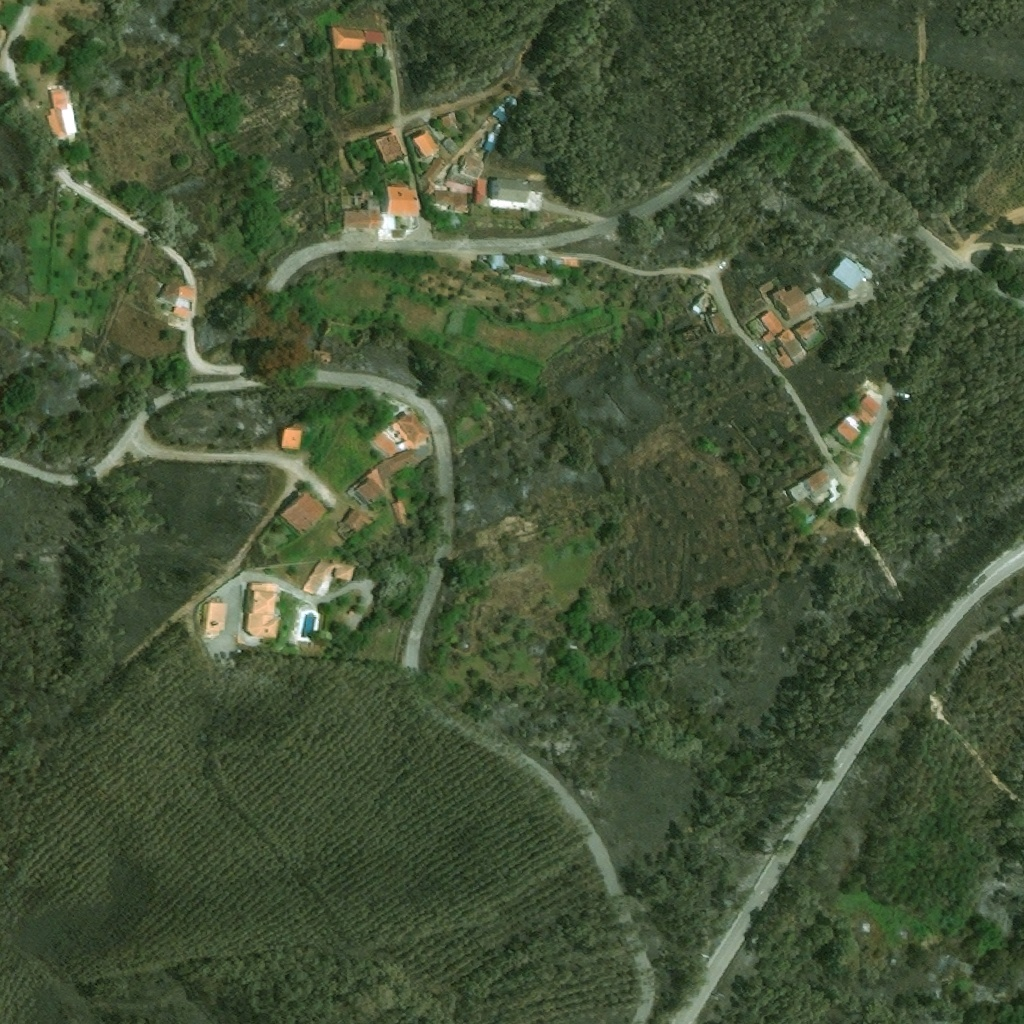0 no-damage: (367, 448, 420, 491), (771, 284, 827, 321), (279, 491, 328, 533), (299, 559, 355, 595), (245, 583, 279, 639), (46, 84, 77, 137), (829, 257, 870, 291), (391, 411, 428, 448), (376, 127, 409, 166), (776, 328, 804, 369), (848, 394, 882, 424), (343, 210, 390, 230), (162, 281, 196, 308), (388, 184, 418, 214), (489, 178, 528, 201), (759, 310, 785, 343), (354, 478, 384, 506), (513, 264, 555, 284), (346, 507, 375, 535), (413, 128, 441, 157), (834, 415, 863, 443), (369, 432, 399, 458), (202, 603, 226, 634), (334, 27, 365, 51), (691, 292, 716, 317), (494, 97, 520, 121), (804, 469, 831, 492), (441, 111, 466, 133), (461, 156, 486, 177), (424, 158, 446, 181), (437, 191, 468, 207), (707, 312, 728, 334), (281, 427, 302, 448), (788, 482, 810, 502), (390, 501, 407, 525), (488, 253, 513, 269), (829, 477, 844, 503), (483, 130, 500, 151), (443, 136, 462, 154), (814, 482, 834, 497), (172, 306, 189, 320), (424, 183, 438, 198), (530, 181, 549, 192), (806, 512, 818, 525), (528, 87, 543, 97), (563, 259, 580, 267)
2 major-damage: (794, 315, 822, 341)
3 destroyed: (682, 325, 708, 343)
